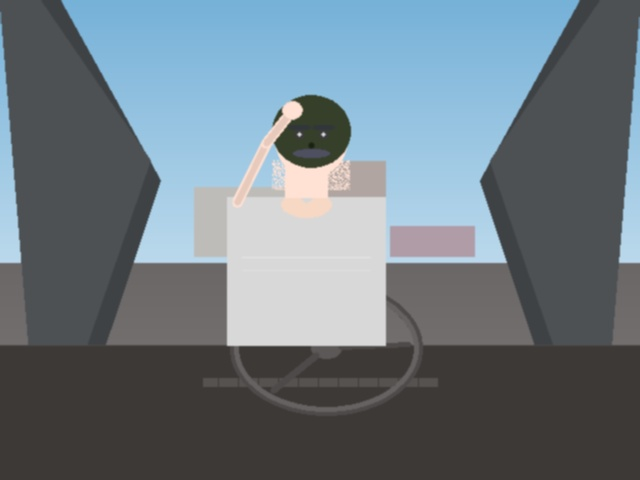hands_off_wheel: (270, 86, 314, 134)
